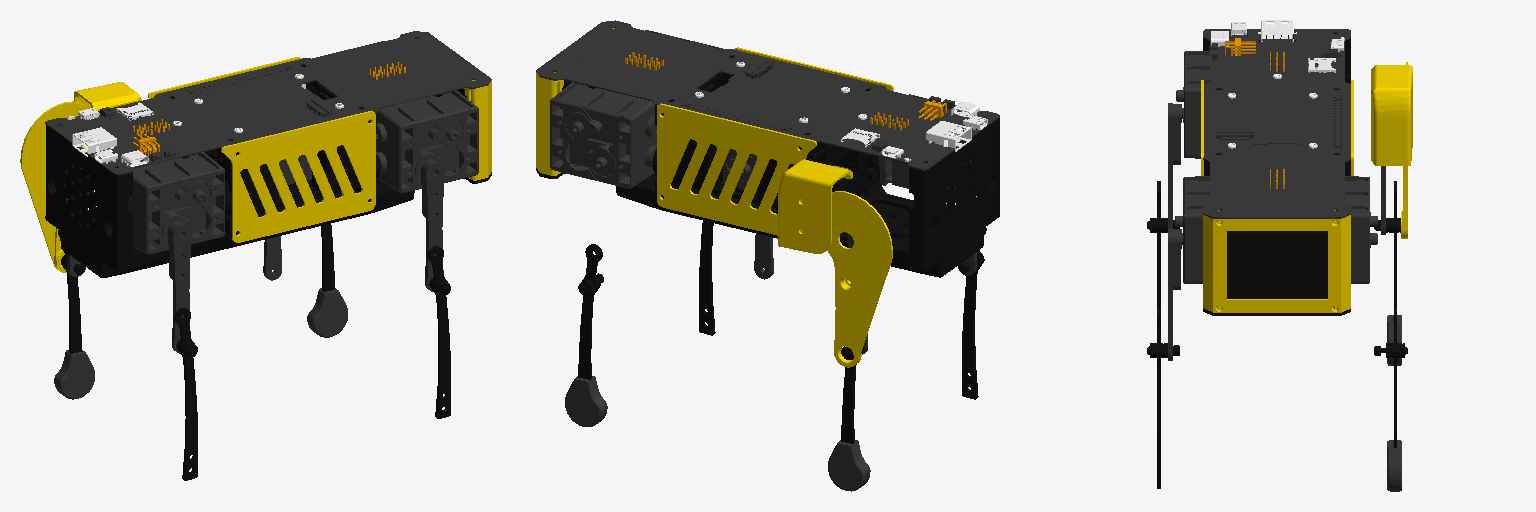
--- What the picture shows (computed from the rendered views, not written in the file) ---
3 views of the same robot in one strip: view 1: azimuth 30°, elevation 25°; view 2: azimuth 150°, elevation 25°; view 3: azimuth 270°, elevation 25° (orthographic).
Model mini_pupper with 32 links and 31 joints (12 revolute, 19 fixed), rooted at base_link, posed every joint at zero.
Links seen in each view (by area): view 1: Board_PCB, base_link, Shell_Side, rf1, rb1, Shell_Leg_Upper_LeftSide_2, rf3, rb3, Board_connectors_2, rb2, rf2, lffoot (+7 smaller); view 2: Board_PCB, base_link, Shell_Side, lf1, Shell_Leg_Upper_LeftSide_2, Shell_Hip_Left_2, Board_connectors_2, rb3, lf3, lffoot, lbfoot, Body_front (+6 smaller); view 3: Board_PCB, base_link, Body_front, Shell_Hip_Left_2, rf1, lf1, rb1, Board_connectors_2, rf2, rb2, rf3, lf3 (+5 smaller).
Boxes of the visible links, x1,y1,x2,y2 form: Board_PCB: [45, 31, 491, 174]; base_link: [45, 65, 491, 277]; Shell_Side: [148, 57, 375, 242]; rf1: [376, 90, 478, 193]; rb1: [128, 152, 224, 254]; Shell_Leg_Upper_LeftSide_2: [20, 101, 88, 272]; rf3: [427, 246, 450, 418]; rb3: [174, 308, 197, 480]; Board_connectors_2: [68, 74, 343, 166]; rb2: [168, 221, 191, 353]; rf2: [421, 159, 444, 291]; lffoot: [307, 288, 347, 337]; Board_PCB: [536, 20, 999, 170]; base_link: [536, 56, 999, 277]; Shell_Side: [657, 47, 893, 235]; lf1: [550, 82, 656, 188]; Shell_Leg_Upper_LeftSide_2: [827, 191, 892, 367]; Shell_Hip_Left_2: [778, 159, 852, 253]; Board_connectors_2: [695, 62, 987, 161]; rb3: [959, 227, 986, 399]; lf3: [578, 244, 603, 379]; lffoot: [565, 376, 607, 426]; lbfoot: [828, 440, 870, 491]; Body_front: [536, 28, 614, 175]; Board_PCB: [1203, 29, 1350, 218]; base_link: [1203, 33, 1350, 315]; Body_front: [1203, 210, 1350, 312]; Shell_Hip_Left_2: [1371, 65, 1412, 165]; rf1: [1175, 176, 1209, 283]; lf1: [1345, 176, 1377, 283]; rb1: [1176, 51, 1209, 158]; Board_connectors_2: [1211, 20, 1344, 148]; rf2: [1168, 228, 1181, 360]; rb2: [1168, 103, 1181, 227]; rf3: [1147, 307, 1179, 488]; lf3: [1374, 307, 1407, 447].
Bounding box of the posed robot: 0.1812 × 0.1082 × 0.1435 m (x, y, z).
Meshes: 30 distinct files referenced, 24 mesh visuals loaded (24 binary STL); not drawn: 6 (reference not matched to a file when rendering).

The robot description file, URDF, robot "mini_pupper":
<?xml version="1.0" ?>
<!-- =================================================================================== -->
<!-- |    This document was autogenerated by xacro from mini_pupper_2_description.urdf.xacro | -->
<!-- |    EDITING THIS FILE BY HAND IS NOT RECOMMENDED                                 | -->
<!-- =================================================================================== -->
<robot name="mini_pupper">
  <material name="silver_default">
    <color rgba="0.700 0.700 0.700 1.000"/>
  </material>
  <material name="opaque666666">
    <color rgba="0.25882352941176473 0.25882352941176473 0.25882352941176473 1.0"/>
  </material>
  <material name="opaque252525">
    <color rgba="0.09803921568627451 0.09803921568627451 0.09803921568627451 1.0"/>
  </material>
  <material name="opaque636363">
    <color rgba="0.25098039215686274 0.25098039215686274 0.25098039215686274 1.0"/>
  </material>
  <material name="opaque2552210">
    <color rgba="1.0 0.8666666666666667 0.0 1.0"/>
  </material>
  <material name="opaque646464">
    <color rgba="0.25098039215686274 0.25098039215686274 0.25098039215686274 1.0"/>
  </material>
  <material name="opaque25524395">
    <color rgba="1.0 0.9529411764705882 0.37254901960784315 1.0"/>
  </material>
  <material name="opaque2491590">
    <color rgba="0.9764705882352941 0.6235294117647059 0.0 1.0"/>
  </material>
  <material name="opaque255255255">
    <color rgba="1.0 1.0 1.0 1.0"/>
  </material>
  <!-- <xacro:include filename="$(find mini_pupper_2_description)/urdf/mini_pupper_2_description.trans" /> -->
  <link name="base_link">
    <visual>
      <origin rpy="0 0 0" xyz="0 0 0"/>
      <geometry>
        <mesh filename="package://mini_pupper_2_description/meshes/base_link.stl" scale="1 1 1"/>
      </geometry>
      <material name="opaque252525"/>
    </visual>
    <collision>
      <origin rpy="0 0 0" xyz="0 0 0"/>
      <geometry>
        <mesh filename="package://mini_pupper_2_description/meshes/base_link.stl" scale="1 1 1"/>
      </geometry>
    </collision>
  </link>
  <link name="base_inertia">
    <inertial>
      <origin rpy="0 0 0" xyz="-0.008866664732250966 0.0006462612742260995 -0.007154314406453802"/>
      <mass value="0.09818420433466489"/>
      <inertia ixx="5.2e-05" ixy="1e-06" ixz="-1e-05" iyy="0.000244" iyz="1e-06" izz="0.000252"/>
    </inertial>
  </link>
  <link name="lf1">
    <inertial>
      <origin rpy="0 0 0" xyz="0.020109281613098752 0.002331771723067172 0.0064994497731911665"/>
      <mass value="0.020769030109708524"/>
      <inertia ixx="2e-06" ixy="-0.0" ixz="-0.0" iyy="4e-06" iyz="-0.0" izz="3e-06"/>
    </inertial>
    <visual>
      <origin rpy="0 0 0" xyz="-0.037299 -0.023745 -5.7e-05"/>
      <geometry>
        <mesh filename="package://mini_pupper_2_description/meshes/lf1.stl" scale="1 1 1"/>
      </geometry>
      <material name="opaque666666"/>
    </visual>
    <collision>
      <origin rpy="0 0 0" xyz="-0.037299 -0.023745 -5.7e-05"/>
      <geometry>
        <mesh filename="package://mini_pupper_2_description/meshes/lf1.stl" scale="1 1 1"/>
      </geometry>
    </collision>
  </link>
  <link name="lf2">
    <inertial>
      <origin rpy="0 0 0" xyz="-2.5728896106275156e-06 0.0009860558893138652 -0.018261345499916863"/>
      <mass value="0.0019057729925096327"/>
      <inertia ixx="0.0" ixy="0.0" ixz="-0.0" iyy="0.0" iyz="0.0" izz="0.0"/>
    </inertial>
    <visual>
      <origin rpy="0 0 0" xyz="-0.052165 -0.041445 -5.7e-05"/>
      <geometry>
        <mesh filename="package://mini_pupper_2_description/meshes/lf2.stl" scale="1 1 1"/>
      </geometry>
      <material name="opaque636363"/>
    </visual>
    <collision>
      <origin rpy="0 0 0" xyz="-0.052165 -0.041445 -5.7e-05"/>
      <geometry>
        <mesh filename="package://mini_pupper_2_description/meshes/lf2.stl" scale="1 1 1"/>
      </geometry>
    </collision>
  </link>
  <link name="lf3">
    <inertial>
      <origin rpy="0 0 0" xyz="0.0007046107744873437 0.0034550275861905885 -0.016225601428628958"/>
      <mass value="0.0011438144457690698"/>
      <inertia ixx="1e-06" ixy="-0.0" ixz="0.0" iyy="1e-06" iyz="0.0" izz="0.0"/>
    </inertial>
    <visual>
      <origin rpy="0 0 0" xyz="-0.052159 -0.044445 0.049943"/>
      <geometry>
        <mesh filename="package://mini_pupper_2_description/meshes/lf3.stl" scale="1 1 1"/>
      </geometry>
      <material name="opaque252525"/>
    </visual>
    <collision>
      <origin rpy="0 0 0" xyz="-0.052159 -0.044445 0.049943"/>
      <geometry>
        <mesh filename="package://mini_pupper_2_description/meshes/lf3.stl" scale="1 1 1"/>
      </geometry>
    </collision>
  </link>
  <link name="rf1">
    <inertial>
      <origin rpy="0 0 0" xyz="0.020106742599110078 -0.00233237781568562 0.006497900858401761"/>
      <mass value="0.020769549324466178"/>
      <inertia ixx="2e-06" ixy="0.0" ixz="-0.0" iyy="4e-06" iyz="-0.0" izz="3e-06"/>
    </inertial>
    <visual>
      <origin rpy="0 0 0" xyz="-0.037299 0.023255 -5.7e-05"/>
      <geometry>
        <mesh filename="package://mini_pupper_2_description/meshes/rf1.stl" scale="1 1 1"/>
      </geometry>
      <material name="opaque666666"/>
    </visual>
    <collision>
      <origin rpy="0 0 0" xyz="-0.037299 0.023255 -5.7e-05"/>
      <geometry>
        <mesh filename="package://mini_pupper_2_description/meshes/rf1.stl" scale="1 1 1"/>
      </geometry>
    </collision>
  </link>
  <link name="rf2">
    <inertial>
      <origin rpy="0 0 0" xyz="-4.1025190424676117e-07 -0.0009866275794596438 -0.018261345629717353"/>
      <mass value="0.0019057729924780605"/>
      <inertia ixx="0.0" ixy="-0.0" ixz="-0.0" iyy="0.0" iyz="-0.0" izz="0.0"/>
    </inertial>
    <visual>
      <origin rpy="0 0 0" xyz="-0.052165 0.040955 -5.7e-05"/>
      <geometry>
        <mesh filename="package://mini_pupper_2_description/meshes/rf2.stl" scale="1 1 1"/>
      </geometry>
      <material name="opaque636363"/>
    </visual>
    <collision>
      <origin rpy="0 0 0" xyz="-0.052165 0.040955 -5.7e-05"/>
      <geometry>
        <mesh filename="package://mini_pupper_2_description/meshes/rf2.stl" scale="1 1 1"/>
      </geometry>
    </collision>
  </link>
  <link name="rf3">
    <inertial>
      <origin rpy="0 0 0" xyz="0.0007030898236521158 -0.003457422744677939 -0.016230262912113935"/>
      <mass value="0.001143490701517533"/>
      <inertia ixx="1e-06" ixy="0.0" ixz="0.0" iyy="1e-06" iyz="-0.0" izz="0.0"/>
    </inertial>
    <visual>
      <origin rpy="0 0 0" xyz="-0.052165 0.043955 0.049943"/>
      <geometry>
        <mesh filename="package://mini_pupper_2_description/meshes/rf3.stl" scale="1 1 1"/>
      </geometry>
      <material name="opaque252525"/>
    </visual>
    <collision>
      <origin rpy="0 0 0" xyz="-0.052165 0.043955 0.049943"/>
      <geometry>
        <mesh filename="package://mini_pupper_2_description/meshes/rf3.stl" scale="1 1 1"/>
      </geometry>
    </collision>
  </link>
  <link name="rb1">
    <inertial>
      <origin rpy="0 0 0" xyz="-0.020107177922528044 -0.0023288309787250286 0.006502376356642127"/>
      <mass value="0.020769549324363486"/>
      <inertia ixx="2e-06" ixy="-0.0" ixz="-0.0" iyy="4e-06" iyz="-0.0" izz="3e-06"/>
    </inertial>
    <visual>
      <origin rpy="0 0 0" xyz="0.042701 0.023255 -5.7e-05"/>
      <geometry>
        <mesh filename="package://mini_pupper_2_description/meshes/rb1.stl" scale="1 1 1"/>
      </geometry>
      <material name="opaque666666"/>
    </visual>
    <collision>
      <origin rpy="0 0 0" xyz="0.042701 0.023255 -5.7e-05"/>
      <geometry>
        <mesh filename="package://mini_pupper_2_description/meshes/rb1.stl" scale="1 1 1"/>
      </geometry>
    </collision>
  </link>
  <link name="rb2">
    <inertial>
      <origin rpy="0 0 0" xyz="-2.5070667000748337e-08 -0.000996585764066693 -0.018260149861185754"/>
      <mass value="0.0019057729926311429"/>
      <inertia ixx="0.0" ixy="-0.0" ixz="-0.0" iyy="0.0" iyz="-0.0" izz="0.0"/>
    </inertial>
    <visual>
      <origin rpy="0 0 0" xyz="0.068367 0.040955 -6.6e-05"/>
      <geometry>
        <mesh filename="package://mini_pupper_2_description/meshes/rb2.stl" scale="1 1 1"/>
      </geometry>
      <material name="opaque636363"/>
    </visual>
    <collision>
      <origin rpy="0 0 0" xyz="0.068367 0.040955 -6.6e-05"/>
      <geometry>
        <mesh filename="package://mini_pupper_2_description/meshes/rb2.stl" scale="1 1 1"/>
      </geometry>
    </collision>
  </link>
  <link name="rb3">
    <inertial>
      <origin rpy="0 0 0" xyz="0.0007031309185970697 -0.0034624258831375196 -0.016220094399306113"/>
      <mass value="0.0011440535724654094"/>
      <inertia ixx="1e-06" ixy="0.0" ixz="0.0" iyy="1e-06" iyz="-0.0" izz="0.0"/>
    </inertial>
    <visual>
      <origin rpy="0 0 0" xyz="0.068367 0.043983 0.049932"/>
      <geometry>
        <mesh filename="package://mini_pupper_2_description/meshes/rb3.stl" scale="1 1 1"/>
      </geometry>
      <material name="opaque252525"/>
    </visual>
    <collision>
      <origin rpy="0 0 0" xyz="0.068367 0.043983 0.049932"/>
      <geometry>
        <mesh filename="package://mini_pupper_2_description/meshes/rb3.stl" scale="1 1 1"/>
      </geometry>
    </collision>
  </link>
  <link name="lb1">
    <inertial>
      <origin rpy="0 0 0" xyz="-0.020109716415830967 0.0023317718989125207 0.006499556305653081"/>
      <mass value="0.020769030189864354"/>
      <inertia ixx="2e-06" ixy="0.0" ixz="-0.0" iyy="4e-06" iyz="0.0" izz="3e-06"/>
    </inertial>
    <visual>
      <origin rpy="0 0 0" xyz="0.042701 -0.023745 -5.7e-05"/>
      <geometry>
        <mesh filename="package://mini_pupper_2_description/meshes/lb1.stl" scale="1 1 1"/>
      </geometry>
      <material name="opaque666666"/>
    </visual>
    <collision>
      <origin rpy="0 0 0" xyz="0.042701 -0.023745 -5.7e-05"/>
      <geometry>
        <mesh filename="package://mini_pupper_2_description/meshes/lb1.stl" scale="1 1 1"/>
      </geometry>
    </collision>
  </link>
  <link name="lb2">
    <inertial>
      <origin rpy="0 0 0" xyz="-2.486178994620669e-08 0.0009860564153100007 -0.01826134562993383"/>
      <mass value="0.0019057729925095609"/>
      <inertia ixx="0.0" ixy="0.0" ixz="-0.0" iyy="0.0" iyz="0.0" izz="0.0"/>
    </inertial>
    <visual>
      <origin rpy="0 0 0" xyz="0.068367 -0.041445 -5.7e-05"/>
      <geometry>
        <mesh filename="package://mini_pupper_2_description/meshes/lb2.stl" scale="1 1 1"/>
      </geometry>
      <material name="opaque636363"/>
    </visual>
    <collision>
      <origin rpy="0 0 0" xyz="0.068367 -0.041445 -5.7e-05"/>
      <geometry>
        <mesh filename="package://mini_pupper_2_description/meshes/lb2.stl" scale="1 1 1"/>
      </geometry>
    </collision>
  </link>
  <link name="lb3">
    <inertial>
      <origin rpy="0 0 0" xyz="0.0007030123702261443 0.0034519487133846394 -0.016218113385159758"/>
      <mass value="0.001144346207072784"/>
      <inertia ixx="1e-06" ixy="-0.0" ixz="0.0" iyy="1e-06" iyz="0.0" izz="0.0"/>
    </inertial>
    <visual>
      <origin rpy="0 0 0" xyz="0.068367 -0.044445 0.049943"/>
      <geometry>
        <mesh filename="package://mini_pupper_2_description/meshes/lb3.stl" scale="1 1 1"/>
      </geometry>
      <material name="opaque252525"/>
    </visual>
    <collision>
      <origin rpy="0 0 0" xyz="0.068367 -0.044445 0.049943"/>
      <geometry>
        <mesh filename="package://mini_pupper_2_description/meshes/lb3.stl" scale="1 1 1"/>
      </geometry>
    </collision>
  </link>
  <link name="Body_front">
    <inertial>
      <origin rpy="0 0 0" xyz="-0.005538678480206852 -0.00020424196520824284 0.020222593513387798"/>
      <mass value="0.00785515871148119"/>
      <inertia ixx="5e-06" ixy="-0.0" ixz="-0.0" iyy="2e-06" iyz="-0.0" izz="4e-06"/>
    </inertial>
    <visual>
      <origin rpy="0 0 0" xyz="-0.089299 -0.000245 0.015543"/>
      <geometry>
        <mesh filename="package://mini_pupper_2_description/meshes/Body_front.stl" scale="1 1 1"/>
      </geometry>
      <material name="opaque2552210"/>
    </visual>
    <collision>
      <origin rpy="0 0 0" xyz="-0.089299 -0.000245 0.015543"/>
      <geometry>
        <mesh filename="package://mini_pupper_2_description/meshes/Body_front.stl" scale="1 1 1"/>
      </geometry>
    </collision>
  </link>
  <link name="Board_PCB">
    <inertial>
      <origin rpy="0 0 0" xyz="0.08946128454598752 0.025716073555853 -3.6415040620890043e-05"/>
      <mass value="0.014261552601793053"/>
      <inertia ixx="4e-06" ixy="0.0" ixz="0.0" iyy="3.5e-05" iyz="0.0" izz="3.9e-05"/>
    </inertial>
    <visual>
      <origin rpy="0 0 0" xyz="0.087701 0.023255 -0.026457"/>
      <geometry>
        <mesh filename="package://mini_pupper_2_description/meshes/Board_PCB.stl" scale="1 1 1"/>
      </geometry>
      <material name="opaque646464"/>
    </visual>
    <collision>
      <origin rpy="0 0 0" xyz="0.087701 0.023255 -0.026457"/>
      <geometry>
        <mesh filename="package://mini_pupper_2_description/meshes/Board_PCB.stl" scale="1 1 1"/>
      </geometry>
    </collision>
  </link>
  <link name="Board_connectors_1">
    <inertial>
      <origin rpy="0 0 0" xyz="-0.07276303117117414 -0.002323344081837563 -0.0010631239213060653"/>
      <mass value="0.004688613655947816"/>
      <inertia ixx="0.0" ixy="-1e-06" ixz="0.0" iyy="1.5e-05" iyz="0.0" izz="1.6e-05"/>
    </inertial>
    <visual>
      <origin rpy="0 0 0" xyz="-0.061334 -0.000217 -0.026457"/>
      <geometry>
        <mesh filename="package://mini_pupper_2_description/meshes/Board_connectors_1.stl" scale="1 1 1"/>
      </geometry>
      <material name="opaque2491590"/>
    </visual>
    <collision>
      <origin rpy="0 0 0" xyz="-0.061334 -0.000217 -0.026457"/>
      <geometry>
        <mesh filename="package://mini_pupper_2_description/meshes/Board_connectors_1.stl" scale="1 1 1"/>
      </geometry>
    </collision>
  </link>
  <link name="Board_connectors_2">
    <inertial>
      <origin rpy="0 0 0" xyz="0.008233541174180986 -0.002138369786547657 -0.00030110978110910874"/>
      <mass value="0.0019746031301169403"/>
      <inertia ixx="0.0" ixy="-0.0" ixz="0.0" iyy="3e-06" iyz="0.0" izz="4e-06"/>
    </inertial>
    <visual>
      <origin rpy="0 0 0" xyz="0.045346 -0.000245 -0.026457"/>
      <geometry>
        <mesh filename="package://mini_pupper_2_description/meshes/Board_connectors_2.stl" scale="1 1 1"/>
      </geometry>
      <material name="opaque255255255"/>
    </visual>
    <collision>
      <origin rpy="0 0 0" xyz="0.045346 -0.000245 -0.026457"/>
      <geometry>
        <mesh filename="package://mini_pupper_2_description/meshes/Board_connectors_2.stl" scale="1 1 1"/>
      </geometry>
    </collision>
  </link>
  <link name="rffoot">
    <inertial>
      <origin rpy="0 0 0" xyz="-0.0024634044240561814 -2.8557999392359035e-07 0.007801816226636768"/>
      <mass value="0.0014053107976262874"/>
      <inertia ixx="0.0" ixy="0.0" ixz="-0.0" iyy="0.0" iyz="-0.0" izz="0.0"/>
    </inertial>
    <visual>
      <origin rpy="0 0 0" xyz="-0.056689 0.047705 0.109514"/>
      <geometry>
        <mesh filename="package://mini_pupper_2_description/meshes/rffoot.stl" scale="1 1 1"/>
      </geometry>
      <material name="opaque666666"/>
    </visual>
    <collision>
      <origin rpy="0 0 0" xyz="-0.056689 0.047705 0.109514"/>
      <geometry>
        <mesh filename="package://mini_pupper_2_description/meshes/rffoot.stl" scale="1 1 1"/>
      </geometry>
    </collision>
  </link>
  <link name="rbfoot">
    <inertial>
      <origin rpy="0 0 0" xyz="-0.0024630192318816357 4.2051173794327434e-06 0.0078011683948505245"/>
      <mass value="0.0014053107976262874"/>
      <inertia ixx="0.0" ixy="-0.0" ixz="-0.0" iyy="0.0" iyz="-0.0" izz="0.0"/>
    </inertial>
    <visual>
      <origin rpy="0 0 0" xyz="0.063843 0.047765 0.1095"/>
      <geometry>
        <mesh filename="package://mini_pupper_2_description/meshes/rbfoot.stl" scale="1 1 1"/>
      </geometry>
      <material name="opaque666666"/>
    </visual>
    <collision>
      <origin rpy="0 0 0" xyz="0.063843 0.047765 0.1095"/>
      <geometry>
        <mesh filename="package://mini_pupper_2_description/meshes/rbfoot.stl" scale="1 1 1"/>
      </geometry>
    </collision>
  </link>
  <link name="lbfoot">
    <inertial>
      <origin rpy="0 0 0" xyz="-0.0024630193952935586 -2.855826621572799e-07 0.00780181622349041"/>
      <mass value="0.0014053107976262874"/>
      <inertia ixx="0.0" ixy="0.0" ixz="-0.0" iyy="0.0" iyz="-0.0" izz="0.0"/>
    </inertial>
    <visual>
      <origin rpy="0 0 0" xyz="0.063843 -0.048195 0.109514"/>
      <geometry>
        <mesh filename="package://mini_pupper_2_description/meshes/lbfoot.stl" scale="1 1 1"/>
      </geometry>
      <material name="opaque666666"/>
    </visual>
    <collision>
      <origin rpy="0 0 0" xyz="0.063843 -0.048195 0.109514"/>
      <geometry>
        <mesh filename="package://mini_pupper_2_description/meshes/lbfoot.stl" scale="1 1 1"/>
      </geometry>
    </collision>
  </link>
  <link name="lffoot">
    <inertial>
      <origin rpy="0 0 0" xyz="-0.002463300234335934 -2.8611328430766525e-07 0.00780127458383767"/>
      <mass value="0.0014053107976262874"/>
      <inertia ixx="0.0" ixy="0.0" ixz="-0.0" iyy="0.0" iyz="-0.0" izz="0.0"/>
    </inertial>
    <visual>
      <origin rpy="0 0 0" xyz="-0.056689 -0.048195 0.109513"/>
      <geometry>
        <mesh filename="package://mini_pupper_2_description/meshes/lffoot.stl" scale="1 1 1"/>
      </geometry>
      <material name="opaque666666"/>
    </visual>
    <collision>
      <origin rpy="0 0 0" xyz="-0.056689 -0.048195 0.109513"/>
      <geometry>
        <mesh filename="package://mini_pupper_2_description/meshes/lffoot.stl" scale="1 1 1"/>
      </geometry>
    </collision>
  </link>
  <link name="Shell_Hip_Left_1">
    <inertial>
      <origin rpy="0 0 0" xyz="0.002258882765982295 0.008667473212030541 -0.002747896746317195"/>
      <mass value="0.002573897544461238"/>
      <inertia ixx="0.0" ixy="0.0" ixz="0.0" iyy="0.0" iyz="0.0" izz="0.0"/>
    </inertial>
    <visual>
      <origin rpy="0 0 0" xyz="-0.071565 -0.038245 -0.013057"/>
      <geometry>
        <mesh filename="package://mini_pupper_2_description/meshes/Shell_Hip_Left_1.stl" scale="1 1 1"/>
      </geometry>
      <material name="opaque2552210"/>
    </visual>
    <collision>
      <origin rpy="0 0 0" xyz="-0.071565 -0.038245 -0.013057"/>
      <geometry>
        <mesh filename="package://mini_pupper_2_description/meshes/Shell_Hip_Left_1.stl" scale="1 1 1"/>
      </geometry>
    </collision>
  </link>
  <link name="Shell_Hip_Left_2">
    <inertial>
      <origin rpy="0 0 0" xyz="0.0022592683660053597 0.008667473212031727 -0.0027478967463174797"/>
      <mass value="0.002573897544461238"/>
      <inertia ixx="0.0" ixy="0.0" ixz="0.0" iyy="0.0" iyz="0.0" izz="0.0"/>
    </inertial>
    <visual>
      <origin rpy="0 0 0" xyz="0.048967 -0.038245 -0.013057"/>
      <geometry>
        <mesh filename="package://mini_pupper_2_description/meshes/Shell_Hip_Left_2.stl" scale="1 1 1"/>
      </geometry>
      <material name="opaque2552210"/>
    </visual>
    <collision>
      <origin rpy="0 0 0" xyz="0.048967 -0.038245 -0.013057"/>
      <geometry>
        <mesh filename="package://mini_pupper_2_description/meshes/Shell_Hip_Left_2.stl" scale="1 1 1"/>
      </geometry>
    </collision>
  </link>
  <link name="Shell_Hip_Right_1">
    <inertial>
      <origin rpy="0 0 0" xyz="0.002219644336096324 -0.008605630927951344 -0.002709000699399786"/>
      <mass value="0.002396251664132183"/>
      <inertia ixx="0.0" ixy="-0.0" ixz="0.0" iyy="0.0" iyz="-0.0" izz="0.0"/>
    </inertial>
    <visual>
      <origin rpy="0 0 0" xyz="-0.071565 0.037755 -0.013057"/>
      <geometry>
        <mesh filename="package://mini_pupper_2_description/meshes/Shell_Hip_Right_1.stl" scale="1 1 1"/>
      </geometry>
      <material name="opaque2552210"/>
    </visual>
    <collision>
      <origin rpy="0 0 0" xyz="-0.071565 0.037755 -0.013057"/>
      <geometry>
        <mesh filename="package://mini_pupper_2_description/meshes/Shell_Hip_Right_1.stl" scale="1 1 1"/>
      </geometry>
    </collision>
  </link>
  <link name="Shell_Hip_Right_2">
    <inertial>
      <origin rpy="0 0 0" xyz="0.0022200295152449145 -0.008607013686777375 -0.0027033986949916797"/>
      <mass value="0.002396251664132183"/>
      <inertia ixx="0.0" ixy="-0.0" ixz="0.0" iyy="0.0" iyz="-0.0" izz="0.0"/>
    </inertial>
    <visual>
      <origin rpy="0 0 0" xyz="0.048967 0.037748 -0.013064"/>
      <geometry>
        <mesh filename="package://mini_pupper_2_description/meshes/Shell_Hip_Right_2.stl" scale="1 1 1"/>
      </geometry>
      <material name="opaque2552210"/>
    </visual>
    <collision>
      <origin rpy="0 0 0" xyz="0.048967 0.037748 -0.013064"/>
      <geometry>
        <mesh filename="package://mini_pupper_2_description/meshes/Shell_Hip_Right_2.stl" scale="1 1 1"/>
      </geometry>
    </collision>
  </link>
  <link name="Shell_Leg_Upper_LeftSide_1">
    <inertial>
      <origin rpy="0 0 0" xyz="-0.0026521199361419917 0.00790352811362325 0.004979527414372081"/>
      <mass value="0.00223142111318912"/>
      <inertia ixx="1e-06" ixy="0.0" ixz="0.0" iyy="1e-06" iyz="-0.0" izz="0.0"/>
    </inertial>
    <visual>
      <origin rpy="0 0 0" xyz="-0.052162 -0.044445 0.018943"/>
      <geometry>
        <mesh filename="package://mini_pupper_2_description/meshes/Shell_Leg_Upper_LeftSide_1.stl" scale="1 1 1"/>
      </geometry>
      <material name="opaque2552210"/>
    </visual>
    <collision>
      <origin rpy="0 0 0" xyz="-0.052162 -0.044445 0.018943"/>
      <geometry>
        <mesh filename="package://mini_pupper_2_description/meshes/Shell_Leg_Upper_LeftSide_1.stl" scale="1 1 1"/>
      </geometry>
    </collision>
  </link>
  <link name="Shell_Leg_Upper_LeftSide_2">
    <inertial>
      <origin rpy="0 0 0" xyz="-0.002652484362897875 0.007903528639619295 0.004979527279084269"/>
      <mass value="0.00223142111318912"/>
      <inertia ixx="1e-06" ixy="0.0" ixz="0.0" iyy="1e-06" iyz="-0.0" izz="0.0"/>
    </inertial>
    <visual>
      <origin rpy="0 0 0" xyz="0.068367 -0.044445 0.018943"/>
      <geometry>
        <mesh filename="package://mini_pupper_2_description/meshes/Shell_Leg_Upper_LeftSide_2.stl" scale="1 1 1"/>
      </geometry>
      <material name="opaque2552210"/>
    </visual>
    <collision>
      <origin rpy="0 0 0" xyz="0.068367 -0.044445 0.018943"/>
      <geometry>
        <mesh filename="package://mini_pupper_2_description/meshes/Shell_Leg_Upper_LeftSide_2.stl" scale="1 1 1"/>
      </geometry>
    </collision>
  </link>
  <link name="Shell_Leg_Upper_RightSide_1">
    <inertial>
      <origin rpy="0 0 0" xyz="-0.0027172440375204526 -0.007907075713007534 0.004991745926148535"/>
      <mass value="0.0022016115622538724"/>
      <inertia ixx="1e-06" ixy="-0.0" ixz="0.0" iyy="1e-06" iyz="0.0" izz="0.0"/>
    </inertial>
    <visual>
      <origin rpy="0 0 0" xyz="-0.052165 0.043955 0.018943"/>
      <geometry>
        <mesh filename="package://mini_pupper_2_description/meshes/Shell_Leg_Upper_RightSide_1.stl" scale="1 1 1"/>
      </geometry>
      <material name="opaque2552210"/>
    </visual>
    <collision>
      <origin rpy="0 0 0" xyz="-0.052165 0.043955 0.018943"/>
      <geometry>
        <mesh filename="package://mini_pupper_2_description/meshes/Shell_Leg_Upper_RightSide_1.stl" scale="1 1 1"/>
      </geometry>
    </collision>
  </link>
  <link name="Shell_Leg_Upper_RightSide_2">
    <inertial>
      <origin rpy="0 0 0" xyz="-0.002716858856166446 -0.007903712439730225 0.004996352480544097"/>
      <mass value="0.0022016115622538724"/>
      <inertia ixx="1e-06" ixy="-0.0" ixz="0.0" iyy="1e-06" iyz="0.0" izz="0.0"/>
    </inertial>
    <visual>
      <origin rpy="0 0 0" xyz="0.068367 0.043966 0.018932"/>
      <geometry>
        <mesh filename="package://mini_pupper_2_description/meshes/Shell_Leg_Upper_RightSide_2.stl" scale="1 1 1"/>
      </geometry>
      <material name="opaque2552210"/>
    </visual>
    <collision>
      <origin rpy="0 0 0" xyz="0.068367 0.043966 0.018932"/>
      <geometry>
        <mesh filename="package://mini_pupper_2_description/meshes/Shell_Leg_Upper_RightSide_2.stl" scale="1 1 1"/>
      </geometry>
    </collision>
  </link>
  <link name="Shell_Side">
    <inertial>
      <origin rpy="0 0 0" xyz="-2.7696824994153518e-05 0.029999714418054345 0.022370567779566777"/>
      <mass value="0.0051928835390001775"/>
      <inertia ixx="6e-06" ixy="0.0" ixz="0.0" iyy="3e-06" iyz="0.0" izz="7e-06"/>
    </inertial>
    <visual>
      <origin rpy="0 0 0" xyz="0.002701 0.029755 0.016293"/>
      <geometry>
        <mesh filename="package://mini_pupper_2_description/meshes/Shell_Side.stl" scale="1 1 1"/>
      </geometry>
      <material name="opaque2552210"/>
    </visual>
    <collision>
      <origin rpy="0 0 0" xyz="0.002701 0.029755 0.016293"/>
      <geometry>
        <mesh filename="package://mini_pupper_2_description/meshes/Shell_Side.stl" scale="1 1 1"/>
      </geometry>
    </collision>
  </link>
  <joint name="base_link_to_base_inertia" type="fixed">
    <parent link="base_link"/>
    <child link="base_inertia"/>
    <origin rpy="0 0 0" xyz="0 0 0"/>
  </joint>
  <joint name="base_lf1" type="revolute">
    <origin rpy="0 0 0" xyz="0.037299 0.023745 5.7e-05"/>
    <parent link="base_link"/>
    <child link="lf1"/>
    <axis xyz="1.0 0.0 0.0"/>
    <limit effort="5" lower="-3.141593" upper="3.141593" velocity="1.5"/>
  </joint>
  <joint name="lf1_lf2" type="revolute">
    <origin rpy="0 0 0" xyz="0.014866 0.0177 0.0"/>
    <parent link="lf1"/>
    <child link="lf2"/>
    <axis xyz="0.0 1.0 -0.0"/>
    <limit effort="5" lower="-3.141593" upper="3.141593" velocity="1.5"/>
  </joint>
  <joint name="lf2_lf3" type="revolute">
    <origin rpy="0 0 0" xyz="-6e-06 0.003 -0.05"/>
    <parent link="lf2"/>
    <child link="lf3"/>
    <axis xyz="0.0 1.0 -0.0"/>
    <limit effort="5" lower="-3.141593" upper="3.141593" velocity="1.5"/>
  </joint>
  <joint name="base_rf1" type="revolute">
    <origin rpy="0 0 0" xyz="0.037299 -0.023255 5.7e-05"/>
    <parent link="base_link"/>
    <child link="rf1"/>
    <axis xyz="1.0 0.0 0.0"/>
    <limit effort="5" lower="-3.141593" upper="3.141593" velocity="1.5"/>
  </joint>
  <joint name="rf1_rf2" type="revolute">
    <origin rpy="0 0 0" xyz="0.014866 -0.0177 0.0"/>
    <parent link="rf1"/>
    <child link="rf2"/>
    <axis xyz="0.0 1.0 0.0"/>
    <limit effort="5" lower="-3.141593" upper="3.141593" velocity="1.5"/>
  </joint>
  <joint name="rf2_rf3" type="revolute">
    <origin rpy="0 0 0" xyz="0.0 -0.003 -0.05"/>
    <parent link="rf2"/>
    <child link="rf3"/>
    <axis xyz="0.0 1.0 0.0"/>
    <limit effort="5" lower="-3.141593" upper="3.141593" velocity="1.5"/>
  </joint>
  <joint name="base_rb1" type="revolute">
    <origin rpy="0 0 0" xyz="-0.042701 -0.023255 5.7e-05"/>
    <parent link="base_link"/>
    <child link="rb1"/>
    <axis xyz="1.0 0.0 0.0"/>
    <limit effort="5" lower="-3.141593" upper="3.141593" velocity="1.5"/>
  </joint>
  <joint name="rb1_rb2" type="revolute">
    <origin rpy="0 0 0" xyz="-0.025666 -0.0177 9e-06"/>
    <parent link="rb1"/>
    <child link="rb2"/>
    <axis xyz="0.0 1.0 0.0"/>
    <limit effort="5" lower="-3.141593" upper="3.141593" velocity="1.5"/>
  </joint>
  <joint name="rb2_rb3" type="revolute">
    <origin rpy="0 0 0" xyz="0.0 -0.003028 -0.049998"/>
    <parent link="rb2"/>
    <child link="rb3"/>
    <axis xyz="0.0 1.0 0.0"/>
    <limit effort="5" lower="-3.141593" upper="3.141593" velocity="1.5"/>
  </joint>
  <joint name="base_lb1" type="revolute">
    <origin rpy="0 0 0" xyz="-0.042701 0.023745 5.7e-05"/>
    <parent link="base_link"/>
    <child link="lb1"/>
    <axis xyz="1.0 0.0 0.0"/>
    <limit effort="5" lower="-3.141593" upper="3.141593" velocity="1.5"/>
  </joint>
  <joint name="lb1_lb2" type="revolute">
    <origin rpy="0 0 0" xyz="-0.025666 0.0177 0.0"/>
    <parent link="lb1"/>
    <child link="lb2"/>
    <axis xyz="0.0 1.0 -0.0"/>
    <limit effort="5" lower="-3.141593" upper="3.141593" velocity="1.5"/>
  </joint>
  <joint name="lb2_lb3" type="revolute">
    <origin rpy="0 0 0" xyz="0.0 0.003 -0.05"/>
    <parent link="lb2"/>
    <child link="lb3"/>
    <axis xyz="0.0 1.0 -0.0"/>
    <limit effort="5" lower="-3.141593" upper="3.141593" velocity="1.5"/>
  </joint>
  <joint name="base_front" type="fixed">
    <origin rpy="0 0 0" xyz="0.089299 0.000245 -0.015543"/>
    <parent link="base_link"/>
    <child link="Body_front"/>
  </joint>
  <joint name="base_board" type="fixed">
    <origin rpy="0 0 0" xyz="-0.087701 -0.023255 0.026457"/>
    <parent link="base_link"/>
    <child link="Board_PCB"/>
  </joint>
  <joint name="base_cn1" type="fixed">
    <origin rpy="0 0 0" xyz="0.149035 0.023472 0.0"/>
    <parent link="Board_PCB"/>
    <child link="Board_connectors_1"/>
  </joint>
  <joint name="base_cn2" type="fixed">
    <origin rpy="0 0 0" xyz="0.042355 0.0235 0.0"/>
    <parent link="Board_PCB"/>
    <child link="Board_connectors_2"/>
  </joint>
  <joint name="rf3_foot" type="fixed">
    <origin rpy="0 0 0" xyz="0.004524 -0.00375 -0.059571"/>
    <parent link="rf3"/>
    <child link="rffoot"/>
  </joint>
  <joint name="rb3_foot" type="fixed">
    <origin rpy="0 0 0" xyz="0.004524 -0.003782 -0.059568"/>
    <parent link="rb3"/>
    <child link="rbfoot"/>
  </joint>
  <joint name="lb3_foot" type="fixed">
    <origin rpy="0 0 0" xyz="0.004524 0.00375 -0.059571"/>
    <parent link="lb3"/>
    <child link="lbfoot"/>
  </joint>
  <joint name="lf3_foot" type="fixed">
    <origin rpy="0 0 0" xyz="0.00453 0.00375 -0.05957"/>
    <parent link="lf3"/>
    <child link="lffoot"/>
  </joint>
  <joint name="lf1_hip" type="fixed">
    <origin rpy="0 0 0" xyz="0.034266 0.0145 0.013"/>
    <parent link="lf1"/>
    <child link="Shell_Hip_Left_1"/>
  </joint>
  <joint name="lb1_hip" type="fixed">
    <origin rpy="0 0 0" xyz="-0.006266 0.0145 0.013"/>
    <parent link="lb1"/>
    <child link="Shell_Hip_Left_2"/>
  </joint>
  <joint name="rf1_hip" type="fixed">
    <origin rpy="0 0 0" xyz="0.034266 -0.0145 0.013"/>
    <parent link="rf1"/>
    <child link="Shell_Hip_Right_1"/>
  </joint>
  <joint name="rb2_hip" type="fixed">
    <origin rpy="0 0 0" xyz="-0.006266 -0.014493 0.013007"/>
    <parent link="rb1"/>
    <child link="Shell_Hip_Right_2"/>
  </joint>
  <joint name="lf2_shell" type="fixed">
    <origin rpy="0 0 0" xyz="-3e-06 0.003 -0.019"/>
    <parent link="lf2"/>
    <child link="Shell_Leg_Upper_LeftSide_1"/>
  </joint>
  <joint name="lb2_shell" type="fixed">
    <origin rpy="0 0 0" xyz="0.0 0.003 -0.019"/>
    <parent link="lb2"/>
    <child link="Shell_Leg_Upper_LeftSide_2"/>
  </joint>
  <joint name="rf2_shell" type="fixed">
    <origin rpy="0 0 0" xyz="0.0 -0.003 -0.019"/>
    <parent link="rf2"/>
    <child link="Shell_Leg_Upper_RightSide_1"/>
  </joint>
  <joint name="rb2_shell" type="fixed">
    <origin rpy="0 0 0" xyz="0.0 -0.003011 -0.018998"/>
    <parent link="rb2"/>
    <child link="Shell_Leg_Upper_RightSide_2"/>
  </joint>
  <joint name="base_sides" type="fixed">
    <origin rpy="0 0 0" xyz="-0.002701 -0.029755 -0.016293"/>
    <parent link="base_link"/>
    <child link="Shell_Side"/>
  </joint>
  <ros2_control name="GazeboSystem" type="system">
    <hardware>
      <plugin>gazebo_ros2_control/GazeboSystem</plugin>
    </hardware>
    <joint name="base_lf1">
      <command_interface name="effort"/>
      <state_interface name="position"/>
      <state_interface name="velocity"/>
    </joint>
    <joint name="lf1_lf2">
      <command_interface name="effort"/>
      <state_interface name="position"/>
      <state_interface name="velocity"/>
    </joint>
    <joint name="lf2_lf3">
      <command_interface name="effort"/>
      <state_interface name="position"/>
      <state_interface name="velocity"/>
    </joint>
    <joint name="base_rf1">
      <command_interface name="effort"/>
      <state_interface name="position"/>
      <state_interface name="velocity"/>
    </joint>
    <joint name="rf1_rf2">
      <command_interface name="effort"/>
      <state_interface name="position"/>
      <state_interface name="velocity"/>
    </joint>
    <joint name="rf2_rf3">
      <command_interface name="effort"/>
      <state_interface name="position"/>
      <state_interface name="velocity"/>
    </joint>
    <joint name="base_lb1">
      <command_interface name="effort"/>
      <state_interface name="position"/>
      <state_interface name="velocity"/>
    </joint>
    <joint name="lb1_lb2">
      <command_interface name="effort"/>
      <state_interface name="position"/>
      <state_interface name="velocity"/>
    </joint>
    <joint name="lb2_lb3">
      <command_interface name="effort"/>
      <state_interface name="position"/>
      <state_interface name="velocity"/>
    </joint>
    <joint name="base_rb1">
      <command_interface name="effort"/>
      <state_interface name="position"/>
      <state_interface name="velocity"/>
    </joint>
    <joint name="rb1_rb2">
      <command_interface name="effort"/>
      <state_interface name="position"/>
      <state_interface name="velocity"/>
    </joint>
    <joint name="rb2_rb3">
      <command_interface name="effort"/>
      <state_interface name="position"/>
      <state_interface name="velocity"/>
    </joint>
  </ros2_control>
  <!-- coloring Gazebo model -->
  <gazebo reference="base_link">
    <material>Gazebo/FlatBlack</material>
  </gazebo>
  <gazebo reference="Shell_Side">
    <material>Gazebo/Yellow</material>
  </gazebo>
  <gazebo reference="lf1">
    <kp>1000000.0</kp>
    <kd>1.0</kd>
    <mu1>0.8</mu1>
    <mu2>0.8</mu2>
    <maxVel>0.0</maxVel>
    <minDepth>0.001</minDepth>
    <material>Gazebo/FlatBlack</material>
  </gazebo>
  <gazebo reference="Shell_Hip_Left_1">
    <material>Gazebo/Yellow</material>
  </gazebo>
  <gazebo reference="lf2">
    <kp>1000000.0</kp>
    <kd>1.0</kd>
    <mu1>0.8</mu1>
    <mu2>0.8</mu2>
    <maxVel>0.0</maxVel>
    <minDepth>0.001</minDepth>
    <material>Gazebo/FlatBlack</material>
  </gazebo>
  <gazebo reference="Shell_Leg_Upper_LeftSide_1">
    <material>Gazebo/Yellow</material>
  </gazebo>
  <gazebo reference="lf3">
    <kp>1000000.0</kp>
    <kd>1.0</kd>
    <mu1>0.8</mu1>
    <mu2>0.8</mu2>
    <maxVel>0.0</maxVel>
    <minDepth>0.001</minDepth>
    <material>Gazebo/FlatBlack</material>
  </gazebo>
  <gazebo reference="lffoot">
    <kp>1000000.0</kp>
    <kd>1.0</kd>
    <mu1>0.8</mu1>
    <mu2>0.8</mu2>
    <maxVel>0.0</maxVel>
    <minDepth>0.001</minDepth>
    <material>Gazebo/FlatBlack</material>
  </gazebo>
  <gazebo reference="rf1">
    <kp>1000000.0</kp>
    <kd>1.0</kd>
    <mu1>0.8</mu1>
    <mu2>0.8</mu2>
    <maxVel>0.0</maxVel>
    <minDepth>0.001</minDepth>
    <material>Gazebo/FlatBlack</material>
  </gazebo>
  <gazebo reference="Shell_Hip_Right_1">
    <material>Gazebo/Yellow</material>
  </gazebo>
  <gazebo reference="rf2">
    <kp>1000000.0</kp>
    <kd>1.0</kd>
    <mu1>0.8</mu1>
    <mu2>0.8</mu2>
    <maxVel>0.0</maxVel>
    <minDepth>0.001</minDepth>
    <material>Gazebo/FlatBlack</material>
  </gazebo>
  <gazebo reference="Shell_Leg_Upper_RightSide_1">
    <material>Gazebo/Yellow</material>
  </gazebo>
  <gazebo reference="rf3">
    <kp>1000000.0</kp>
    <kd>1.0</kd>
    <mu1>0.8</mu1>
    <mu2>0.8</mu2>
    <maxVel>0.0</maxVel>
    <minDepth>0.001</minDepth>
    <material>Gazebo/FlatBlack</material>
  </gazebo>
  <gazebo reference="rffoot">
    <kp>1000000.0</kp>
    <kd>1.0</kd>
    <mu1>0.8</mu1>
    <mu2>0.8</mu2>
    <maxVel>0.0</maxVel>
    <minDepth>0.001</minDepth>
    <material>Gazebo/FlatBlack</material>
  </gazebo>
  <gazebo reference="lb1">
    <kp>1000000.0</kp>
    <kd>1.0</kd>
    <mu1>0.8</mu1>
    <mu2>0.8</mu2>
    <maxVel>0.0</maxVel>
    <minDepth>0.001</minDepth>
    <material>Gazebo/FlatBlack</material>
  </gazebo>
  <gazebo reference="Shell_Hip_Left_2">
    <material>Gazebo/Yellow</material>
  </gazebo>
  <gazebo reference="lb2">
    <kp>1000000.0</kp>
    <kd>1.0</kd>
    <mu1>0.8</mu1>
    <mu2>0.8</mu2>
    <maxVel>0.0</maxVel>
    <minDepth>0.001</minDepth>
    <material>Gazebo/FlatBlack</material>
  </gazebo>
  <gazebo reference="Shell_Leg_Upper_LeftSide_2">
    <material>Gazebo/Yellow</material>
  </gazebo>
  <gazebo reference="lb3">
    <kp>1000000.0</kp>
    <kd>1.0</kd>
    <mu1>0.8</mu1>
    <mu2>0.8</mu2>
    <maxVel>0.0</maxVel>
    <minDepth>0.001</minDepth>
    <material>Gazebo/FlatBlack</material>
  </gazebo>
  <gazebo reference="lbfoot">
    <kp>1000000.0</kp>
    <kd>1.0</kd>
    <mu1>0.8</mu1>
    <mu2>0.8</mu2>
    <maxVel>0.0</maxVel>
    <minDepth>0.001</minDepth>
    <material>Gazebo/FlatBlack</material>
  </gazebo>
  <gazebo reference="rb1">
    <kp>1000000.0</kp>
    <kd>1.0</kd>
    <mu1>0.8</mu1>
    <mu2>0.8</mu2>
    <maxVel>0.0</maxVel>
    <minDepth>0.001</minDepth>
    <material>Gazebo/FlatBlack</material>
  </gazebo>
  <gazebo reference="Shell_Hip_Right_2">
    <material>Gazebo/Yellow</material>
  </gazebo>
  <gazebo reference="rb2">
    <kp>1000000.0</kp>
    <kd>1.0</kd>
    <mu1>0.8</mu1>
    <mu2>0.8</mu2>
    <maxVel>0.0</maxVel>
    <minDepth>0.001</minDepth>
    <material>Gazebo/FlatBlack</material>
  </gazebo>
  <gazebo reference="Shell_Leg_Upper_RightSide_2">
    <material>Gazebo/Yellow</material>
  </gazebo>
  <gazebo reference="rb3">
    <kp>1000000.0</kp>
    <kd>1.0</kd>
    <mu1>0.8</mu1>
    <mu2>0.8</mu2>
    <maxVel>0.0</maxVel>
    <minDepth>0.001</minDepth>
    <material>Gazebo/FlatBlack</material>
  </gazebo>
  <gazebo reference="rbfoot">
    <kp>1000000.0</kp>
    <kd>1.0</kd>
    <mu1>0.8</mu1>
    <mu2>0.8</mu2>
    <maxVel>0.0</maxVel>
    <minDepth>0.001</minDepth>
    <material>Gazebo/FlatBlack</material>
  </gazebo>
  <!-- <gazebo reference="lidar_link">
    <material>Gazebo/FlatBlack</material>
    <sensor type="ray" name="lidar">
      <always_on>true</always_on>
      <update_rate>30</update_rate>
      <pose>0 0 0 0 0 0</pose>
      <visualize>false</visualize>
      <ray>
        <scan>
          <horizontal>
            <samples>1040</samples>
            <resolution>1</resolution>
            <min_angle>0</min_angle>
            <max_angle>6.28</max_angle>
          </horizontal>
        </scan>
        <range>
          <min>0.2</min>
          <max>50.0</max>
          <resolution>0.01</resolution>
        </range>
        <noise>
          <type>gaussian</type>
          <mean>0.0</mean>
          <stddev>0.004</stddev>
        </noise>
      </ray>
      <plugin name="gazebo_ros_lidar_controller" filename="libgazebo_ros_ray_sensor.so">
        <ros>
          <argument>~/out:=/scan</argument>
        </ros>
        <output_type>sensor_msgs/LaserScan</output_type>
        <frame_name>lidar_link</frame_name> -->
  <!--min_intensity>100.0</min_intensity-->
  <!-- </plugin>
    </sensor>
  </gazebo> -->
  <gazebo>
    <plugin filename="libgazebo_ros_p3d.so" name="p3d_base_controller">
      <ros>
        <argument>odom:=odom/ground_truth</argument>
      </ros>
      <body_name>base_link</body_name>
      <frame_name>world</frame_name>
      <update_rate>10.0</update_rate>
      <xyz_offset>0 0 0</xyz_offset>
      <rpy_offset>0 0 0</rpy_offset>
      <gaussian_noise>0.01</gaussian_noise>
    </plugin>
  </gazebo>
  <gazebo>
    <plugin filename="libgazebo_ros2_control.so" name="gazebo_ros2_control">
      <parameters>[local-path]/ros2_ws/install/mini_pupper_2_description/share/mini_pupper_2_description/config/ros_control/mini_pupper_controller.yaml</parameters>
    </plugin>
  </gazebo>
  <link name="imu_link">
    <inertial>
      <mass value="0.0001"/>
      <origin rpy="0 0 0" xyz="0 0 0"/>
      <inertia ixx="1e-09" ixy="0.0" ixz="0.0" iyy="1e-09" iyz="0.0" izz="1e-09"/>
    </inertial>
  </link>
  <joint name="imu_joint" type="fixed">
    <parent link="base_link"/>
    <child link="imu_link"/>
  </joint>
  <gazebo reference="imu_link">
    <sensor name="imu_controller" type="imu">
      <always_on>true</always_on>
      <update_rate>50</update_rate>
      <plugin filename="libgazebo_ros_imu_sensor.so" name="gazebo_ros_imu_sensor">
        <ros>
          <namespace>/imu</namespace>
          <argument>~/out:=data</argument>
        </ros>
      </plugin>
    </sensor>
  </gazebo>
</robot>
